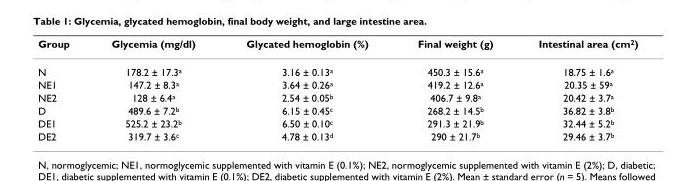table: (37, 37, 637, 142)
table column: (220, 37, 392, 142), (89, 37, 220, 142), (392, 37, 515, 142), (515, 37, 637, 142), (37, 37, 89, 142)
table column header: (37, 37, 637, 57)
table row: (37, 37, 637, 57), (37, 57, 637, 77), (37, 77, 637, 90), (37, 90, 637, 103), (37, 103, 637, 116), (37, 116, 637, 129), (37, 129, 637, 142)
